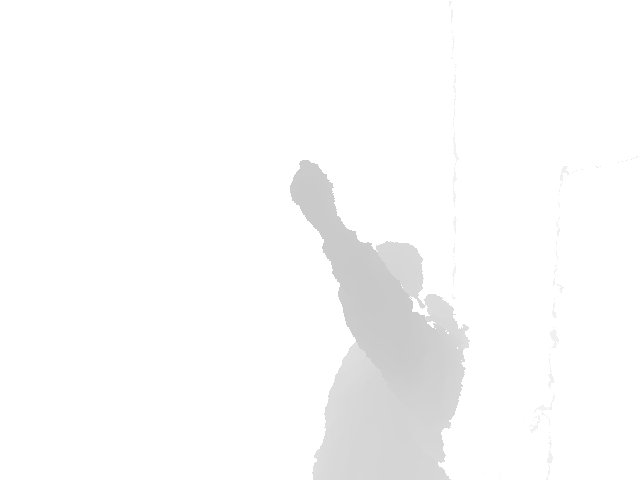hand: (289, 158, 339, 216)
head: (370, 240, 425, 306)
person: (289, 158, 471, 480)
